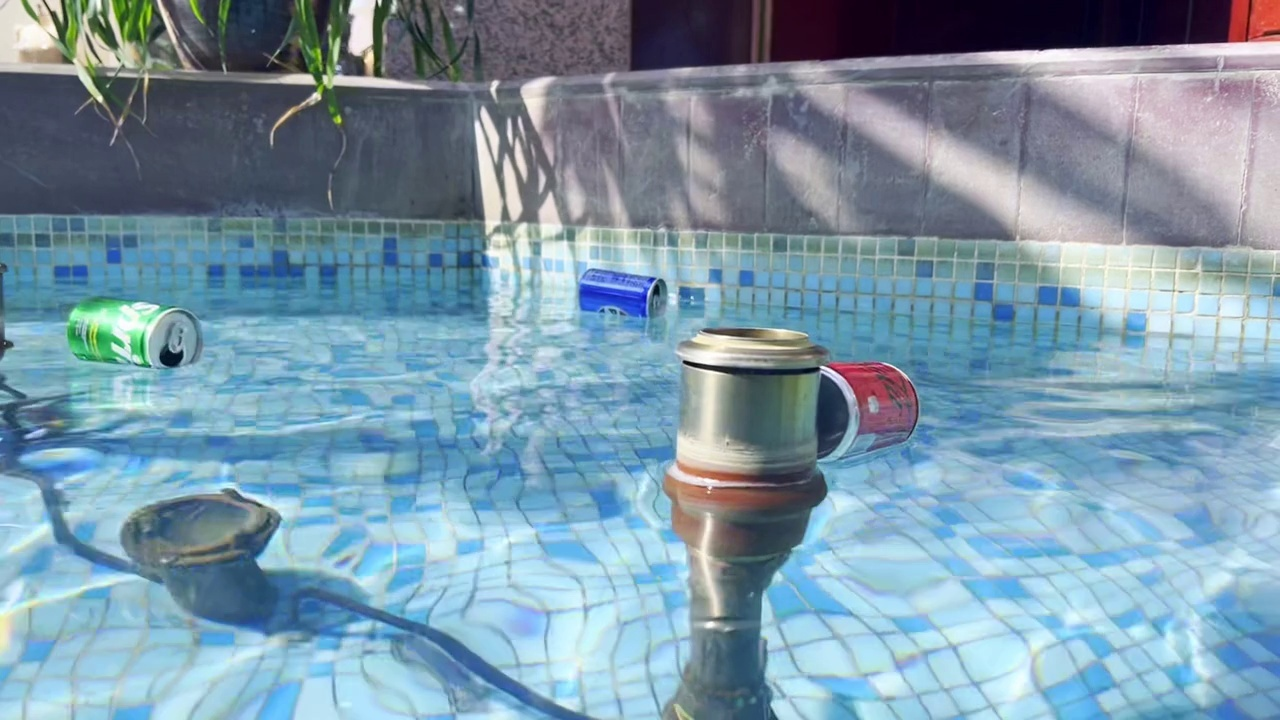debris: (781, 352, 933, 468), (59, 286, 213, 376), (578, 259, 667, 329)
